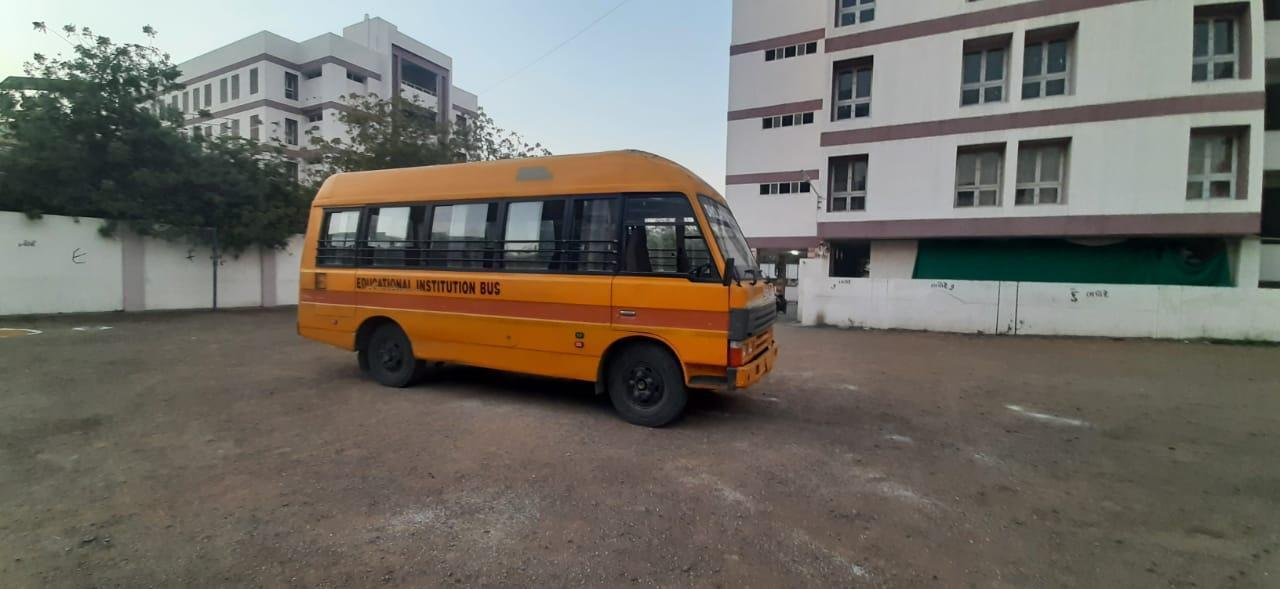Bus: (290, 143, 790, 438)
